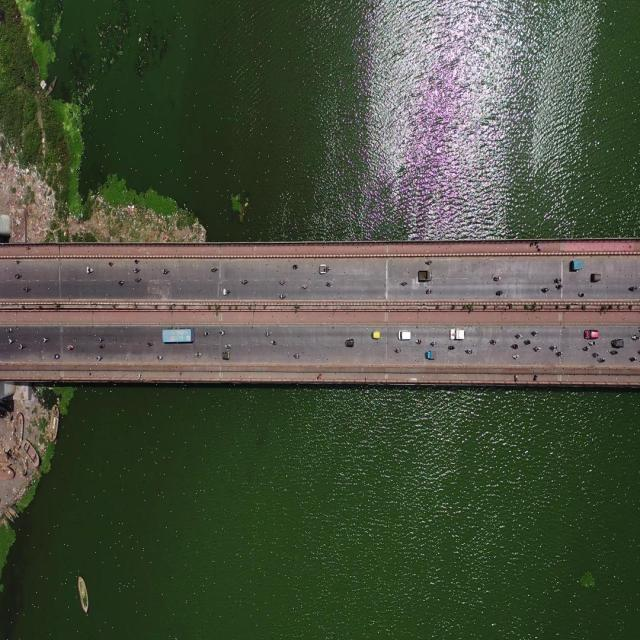3W: (316, 256, 332, 276), (368, 326, 382, 342), (610, 336, 626, 349), (590, 271, 602, 283), (344, 336, 354, 348), (222, 351, 230, 361)
Bus: (161, 324, 195, 343)
Cars: (397, 328, 412, 340), (581, 328, 598, 338)
M2W: (53, 348, 66, 368), (15, 338, 28, 353), (6, 337, 18, 352), (12, 255, 24, 267), (85, 264, 96, 276), (278, 292, 289, 304), (424, 283, 435, 295), (4, 324, 14, 337), (144, 338, 154, 351), (156, 349, 166, 362), (96, 352, 106, 364), (423, 257, 433, 269), (428, 336, 438, 348), (293, 347, 302, 360), (133, 267, 143, 278), (218, 327, 228, 338), (492, 272, 502, 283), (22, 282, 31, 294), (300, 280, 309, 292), (12, 270, 22, 280), (239, 276, 249, 286), (278, 276, 288, 286), (548, 341, 558, 351), (96, 334, 105, 345), (211, 266, 220, 276), (448, 342, 457, 352), (532, 344, 541, 354), (540, 285, 550, 294), (628, 284, 637, 294), (326, 278, 333, 290), (495, 286, 502, 298), (510, 341, 519, 350), (66, 346, 76, 354), (118, 278, 126, 288), (160, 268, 170, 276), (221, 288, 231, 296), (194, 348, 202, 358), (223, 341, 233, 349), (270, 337, 278, 347), (582, 344, 590, 354), (42, 334, 49, 345), (135, 277, 146, 284), (514, 331, 523, 339), (512, 352, 521, 360), (262, 329, 272, 336), (290, 264, 300, 271), (552, 276, 562, 283), (578, 289, 585, 299), (596, 356, 606, 363), (628, 355, 638, 362), (108, 259, 115, 269), (415, 336, 421, 347), (464, 346, 472, 354), (555, 282, 563, 290), (202, 328, 209, 337), (399, 279, 408, 286), (490, 336, 497, 345), (523, 338, 532, 345), (530, 329, 539, 336), (631, 334, 640, 341), (132, 257, 141, 264), (588, 340, 598, 346), (610, 349, 620, 355), (394, 344, 401, 352), (555, 350, 562, 358), (591, 352, 600, 358), (98, 342, 104, 349)
Truck: (569, 256, 585, 274), (448, 325, 466, 340), (418, 268, 432, 283), (424, 350, 438, 361)
